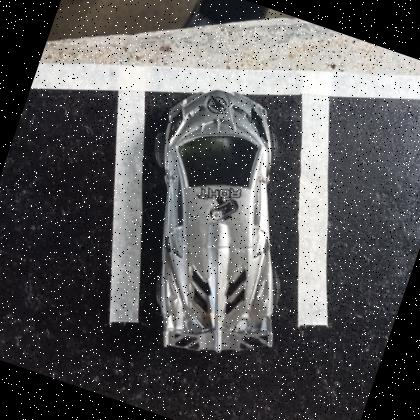Car: (158, 89, 275, 351)
